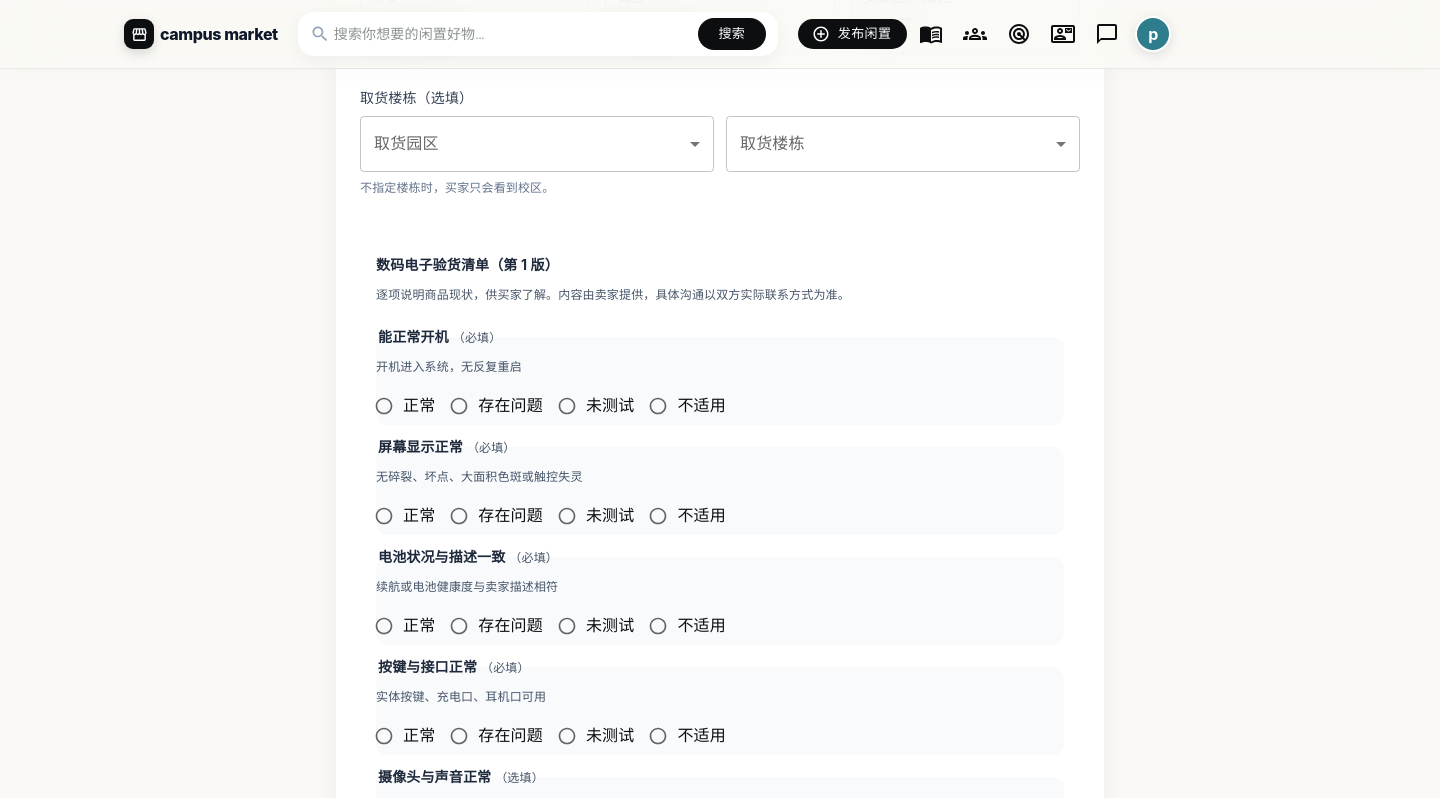
Scenario: 3.2 发布页验货清单 › 键盘：每个条目是同名原生单选组，选项都有可访问名称并可 Tab 到达
The width and height of the screenshot is (1440, 798).
(page scrolled)
Check: the heading "数码电子验货清单（第 1 版）" is shown, box [376,256,559,273]
Click the radio button labelled "存在问题" below "开机进入系统，无反复重启".
click(496, 406)  # box [449,396,543,416]
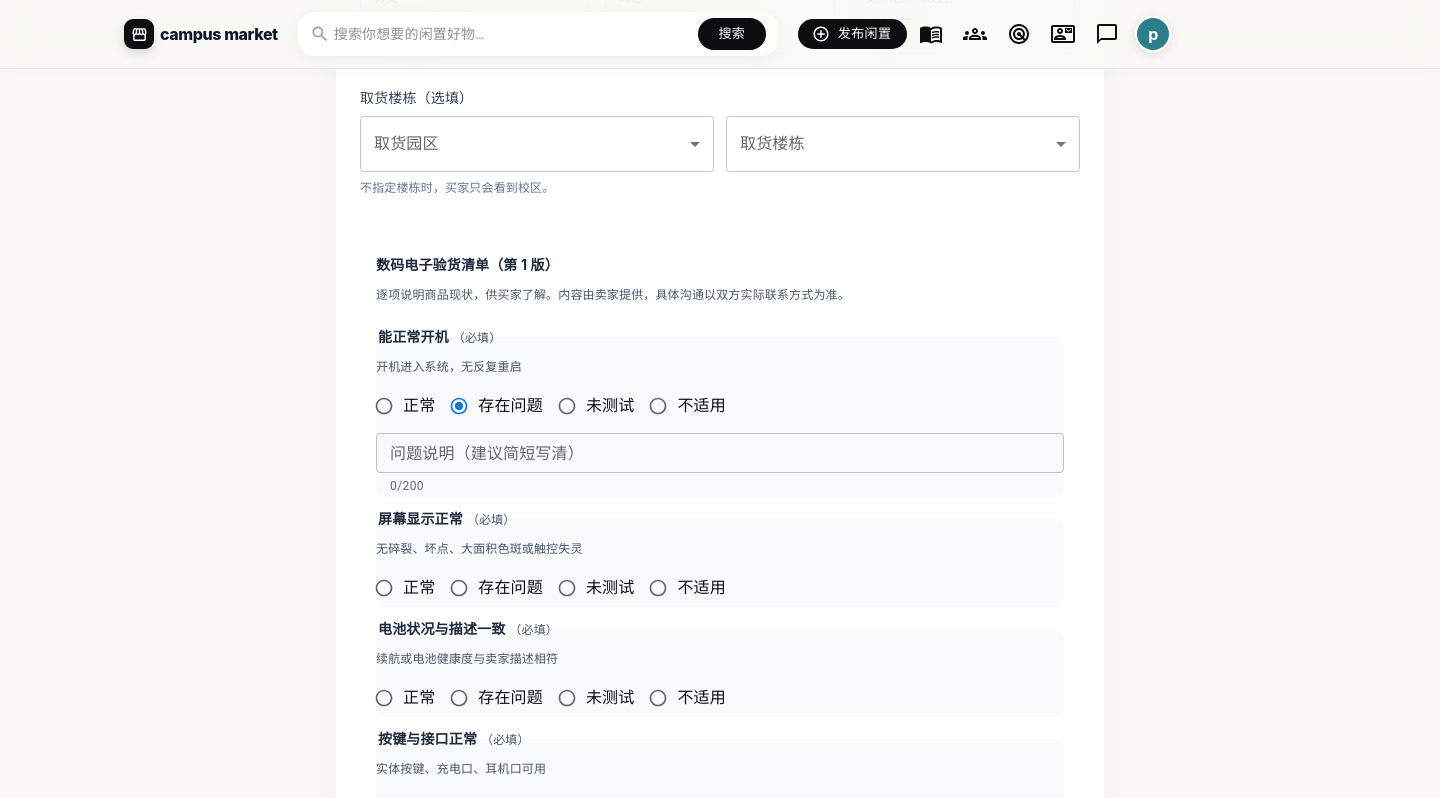
Check: the field labelled "问题说明（建议简短写清）" is shown, box [376,433,1064,473]
